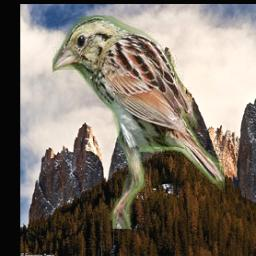Sparrow: (53, 15, 226, 229)
